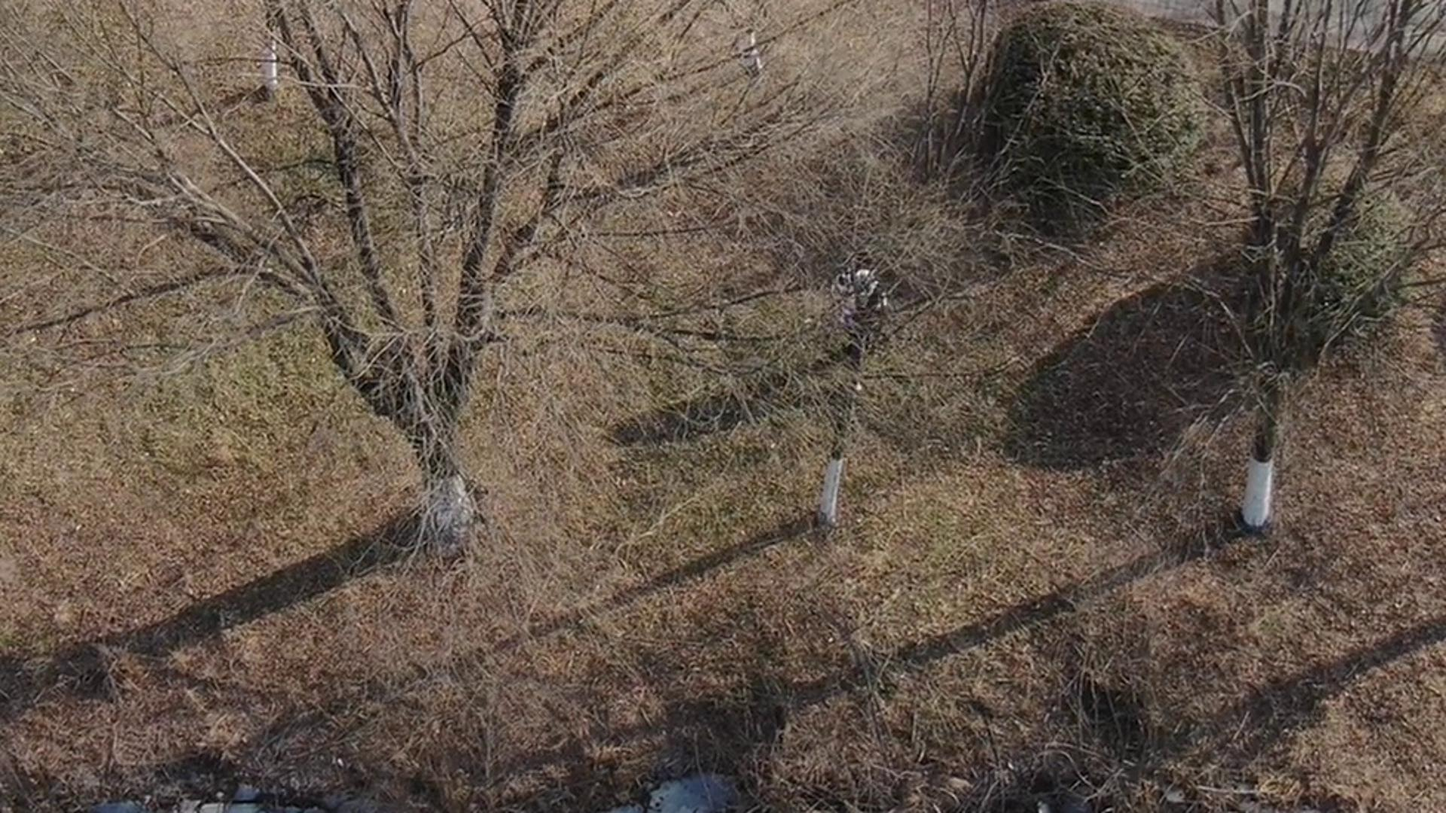human: (828, 268, 880, 370)
